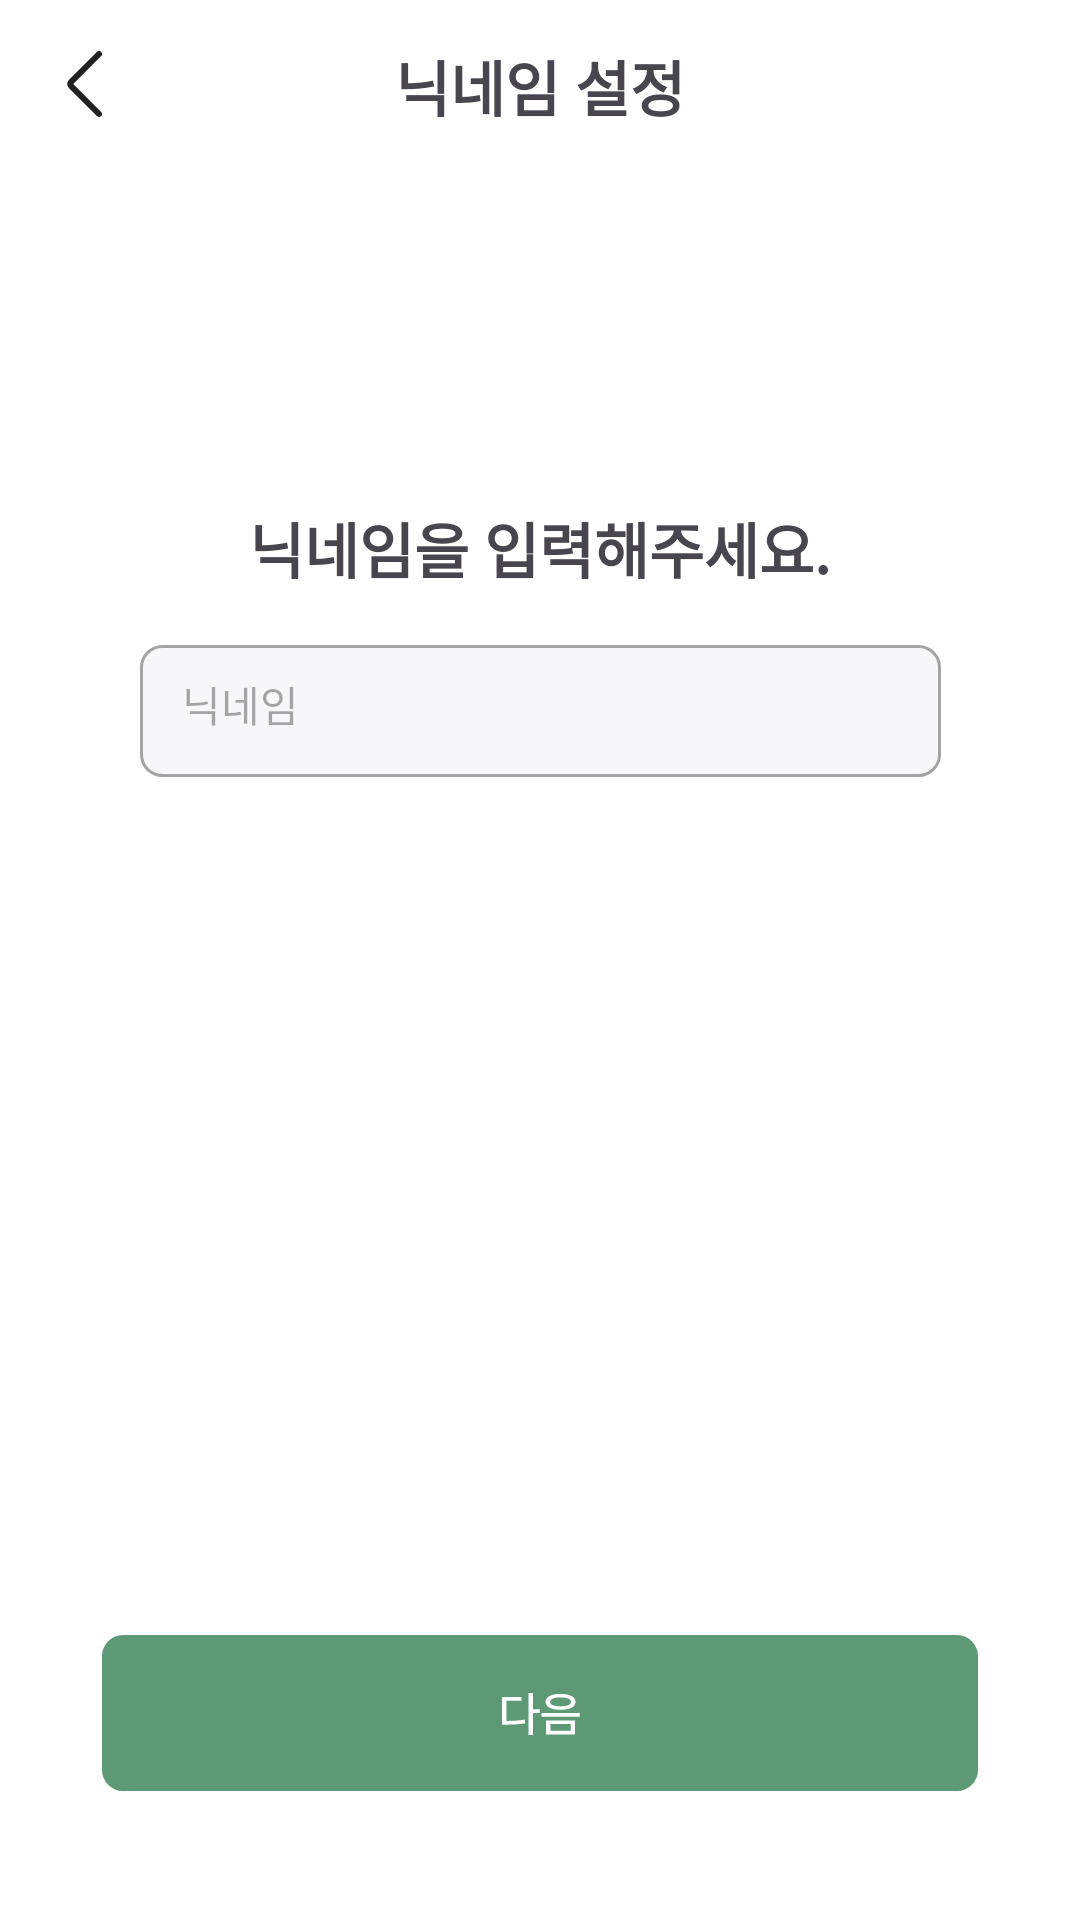

Icon bounding boxes for this 1080x1920 phone screenshot, format (x1, y1, x2, y2):
back: (67, 50, 102, 117)
